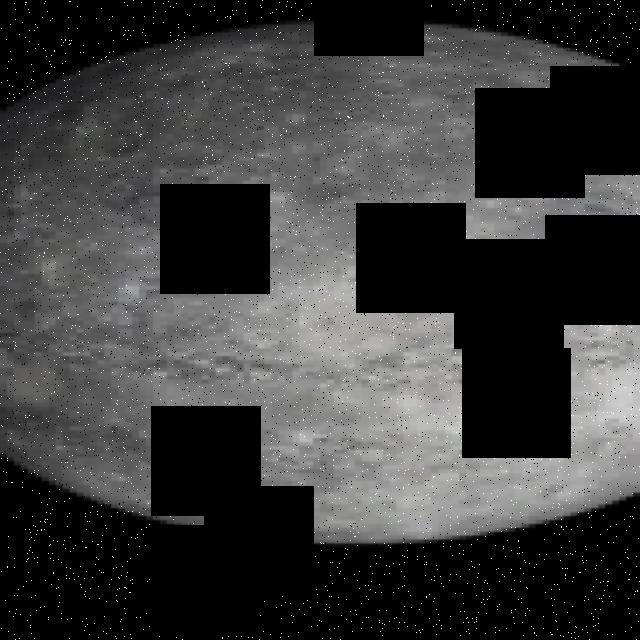Mercury: (0, 15, 640, 542)
